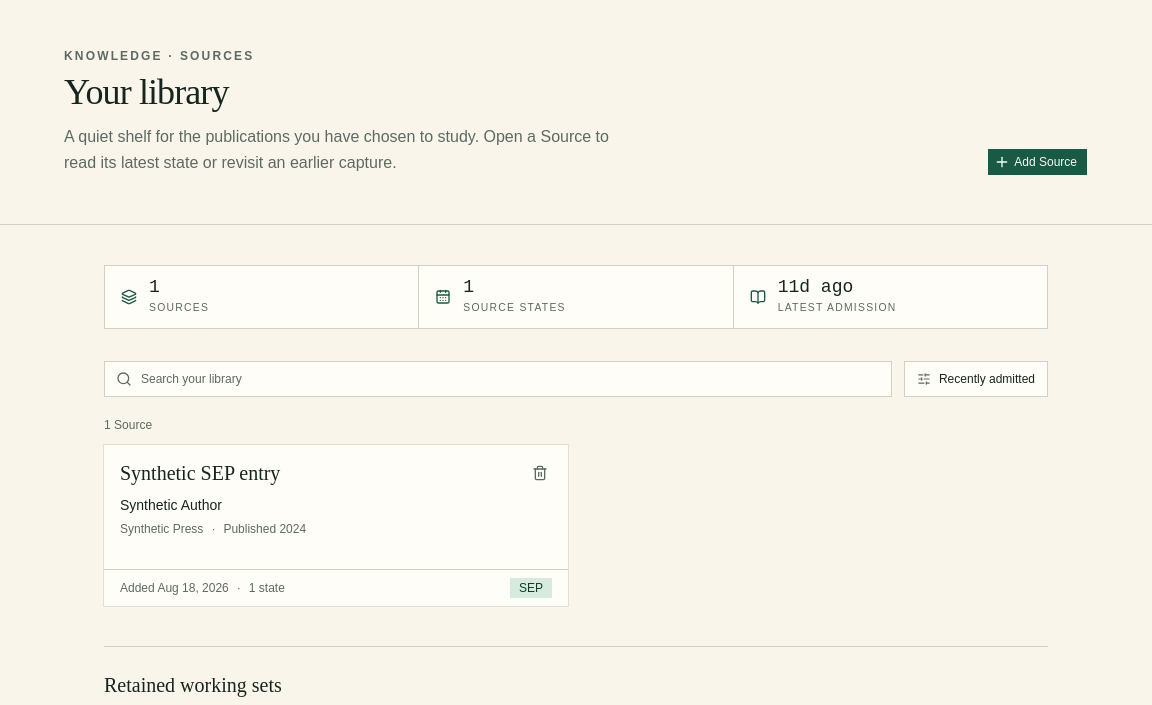
deletes a Source after confirmation
This screenshot has width=1152, height=705.
Expected: the text "Synthetic SEP entry" is shown, [120,461,280,486]
Click the button named "Delete Synthetic SEP entry".
click(540, 473)  # box [524,457,556,489]
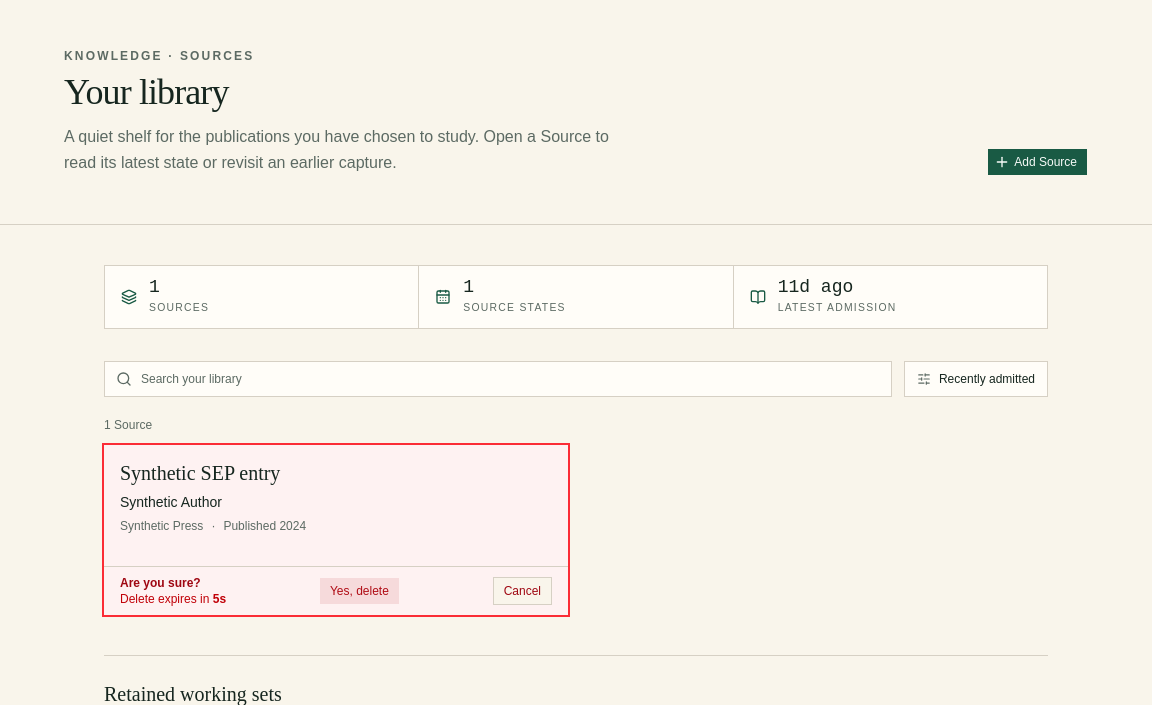
Expected: the text "Are you sure?" is shown, [120,576,201,590]
Expected: the message named "Confirmation expires in 5 seconds" is shown, [120,591,226,607]
Click the button "Cancel".
click(522, 591)  # box [493,577,552,605]
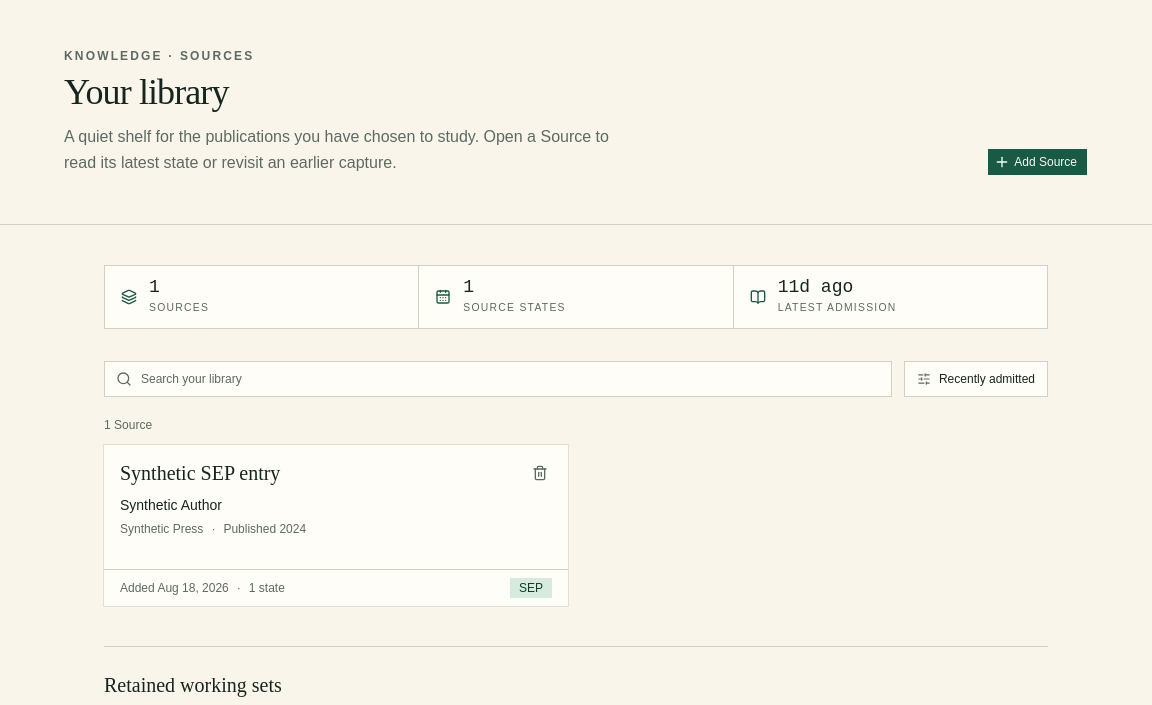
Expected: the button named "Delete Synthetic SEP entry" is shown
Click the button named "Delete Synthetic SEP entry".
click(540, 473)  # box [524,457,556,489]
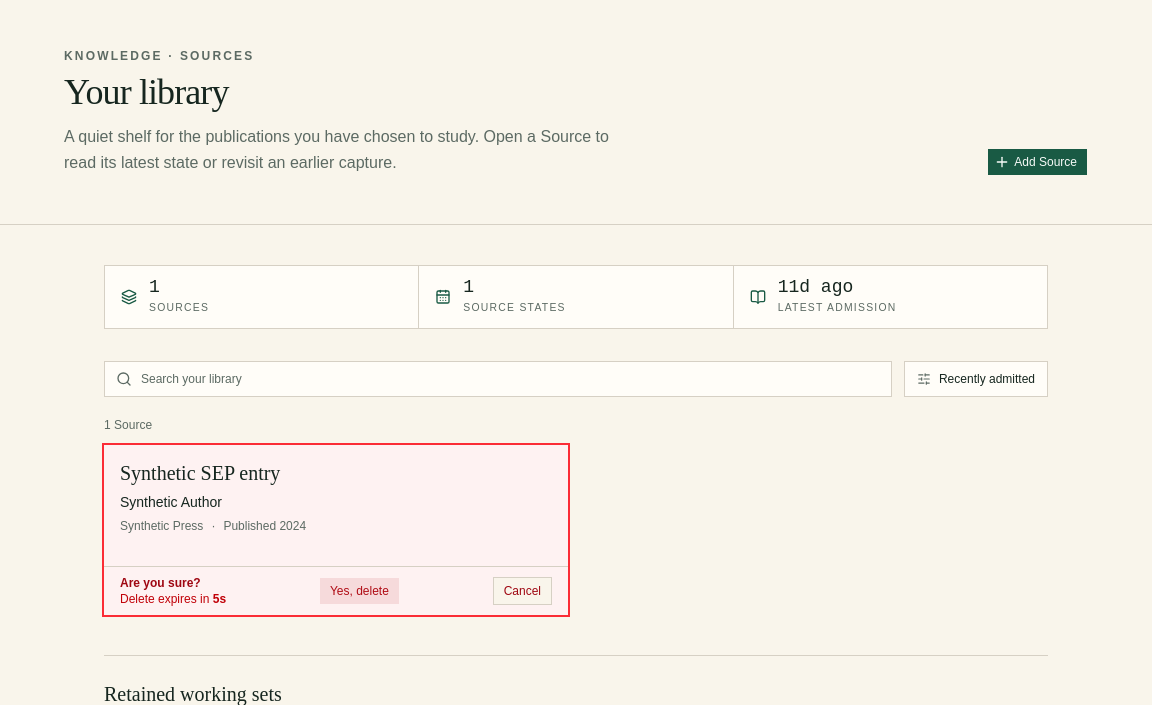
Click the button with aria-label "Confirm delete Synthetic SEP entry".
click(359, 591)  # box [319,577,400,605]
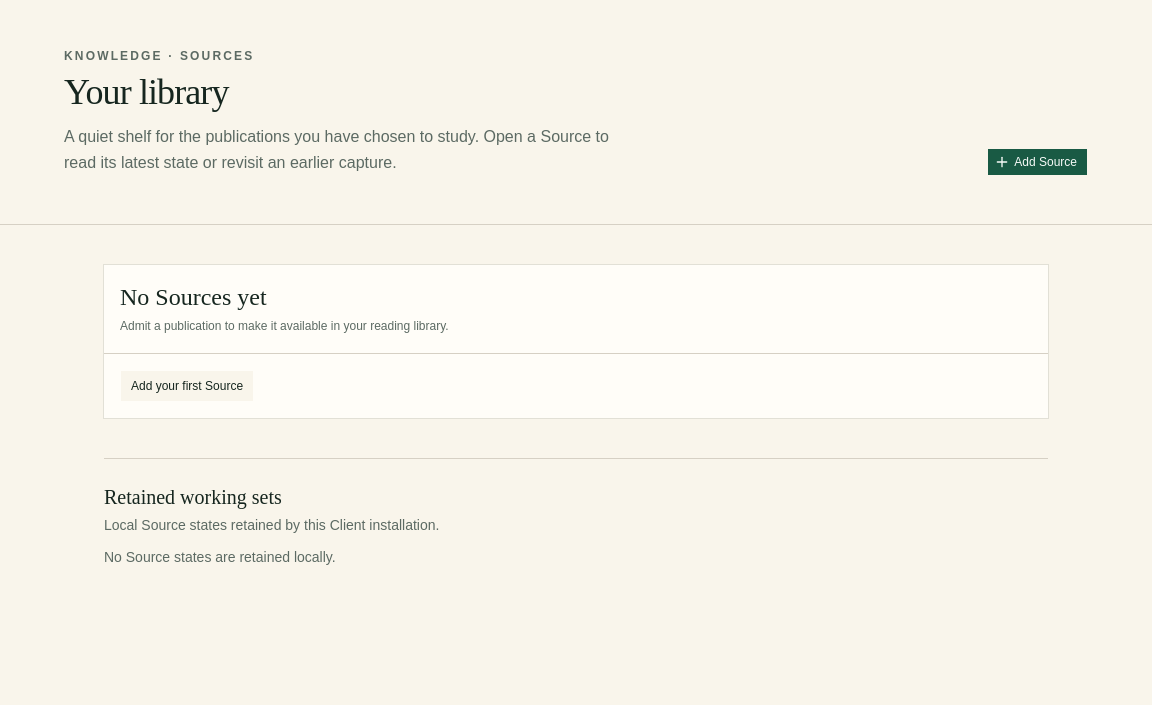
Expected: the link "Synthetic SEP entry" is gone
